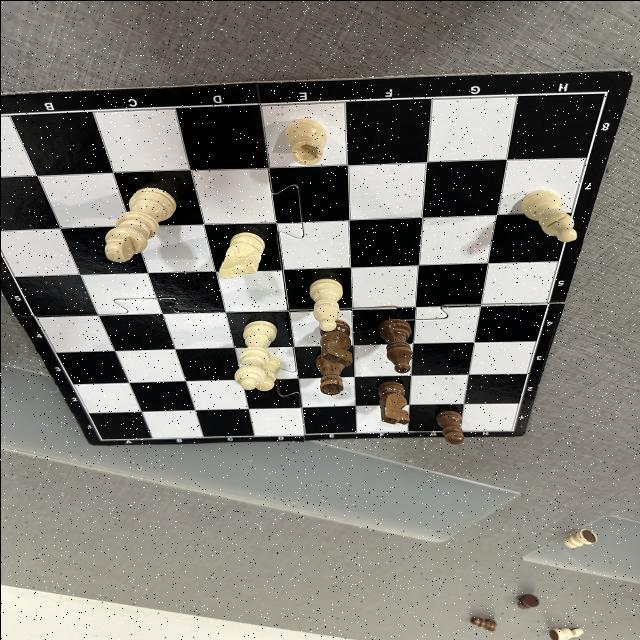Black-Bishop: (377, 317, 412, 373)
Black-Knight: (318, 318, 352, 366), (376, 380, 408, 424)
Black-Pawn: (434, 410, 463, 444), (556, 532, 583, 550), (468, 616, 496, 632)
Black-Rook: (314, 353, 344, 395)
White-Bishop: (519, 189, 576, 242), (308, 277, 342, 331)
White-King: (102, 186, 176, 262)
White-Knight: (218, 232, 264, 278)
White-Pawn: (254, 354, 280, 390)
White-Queen: (233, 320, 277, 390)
White-Rook: (283, 118, 326, 166)
